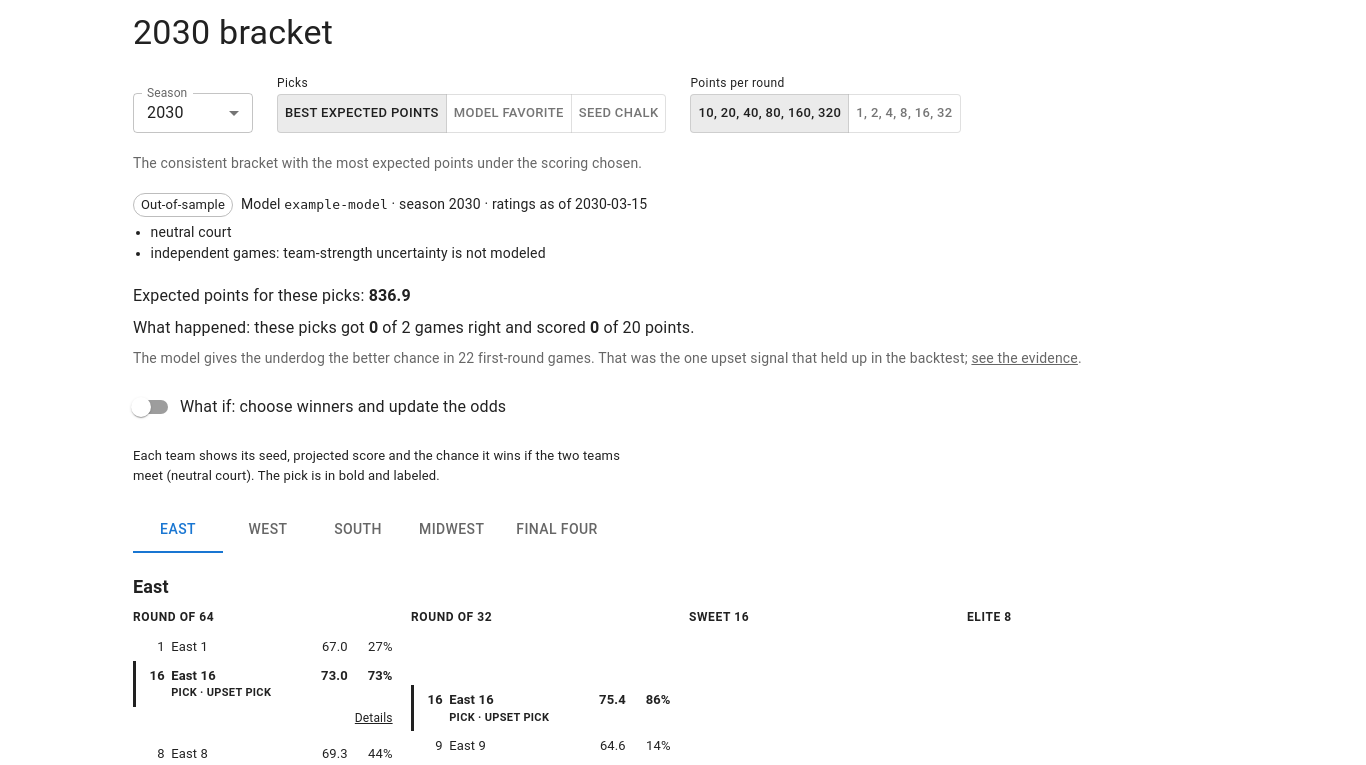
a season in progress › only offers seasons with a bracket in the bracket page season list
The width and height of the screenshot is (1366, 765).
Expected: the tab "East" is shown, [133,505,223,553]
Step 1. Click the dropdown named "Season" → [165, 113], box [147,103,184,122]
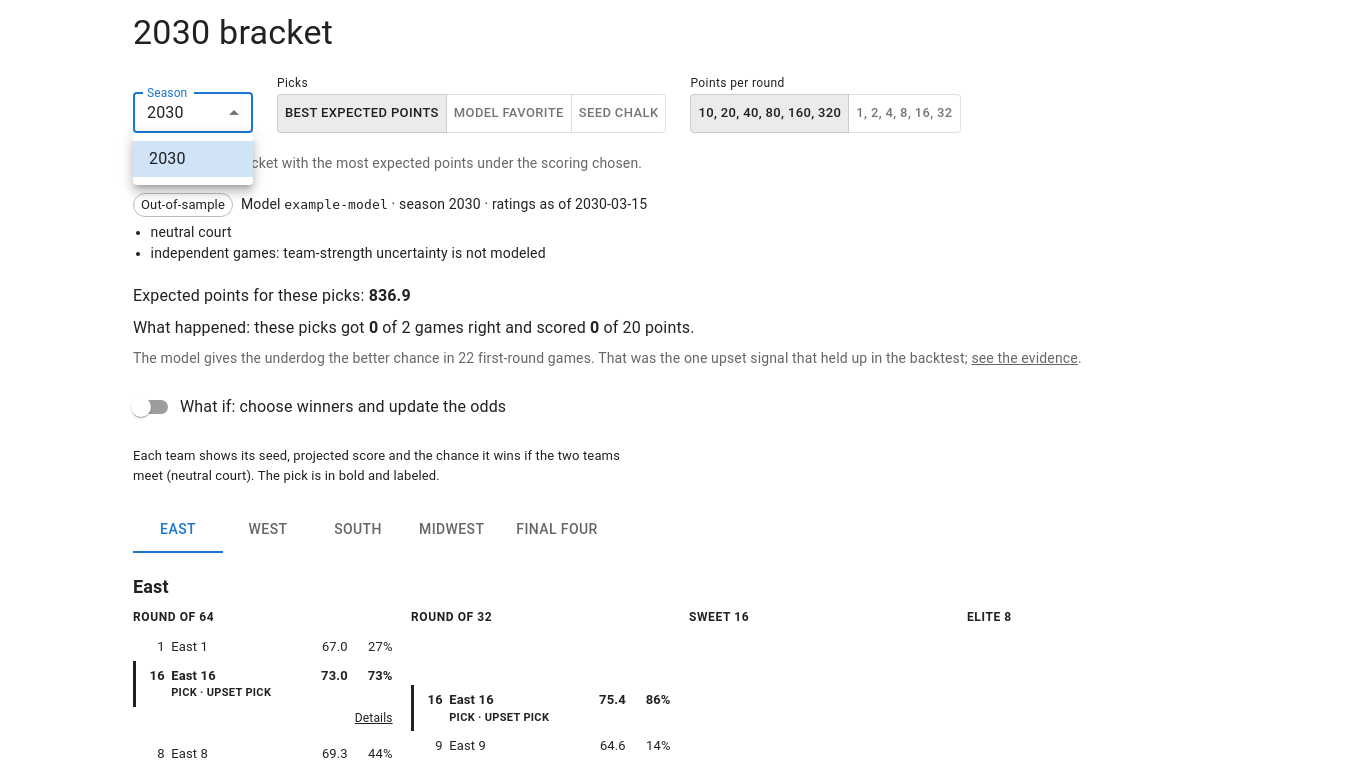
Result: the options read "2030", in this order at [133,141,253,177]
